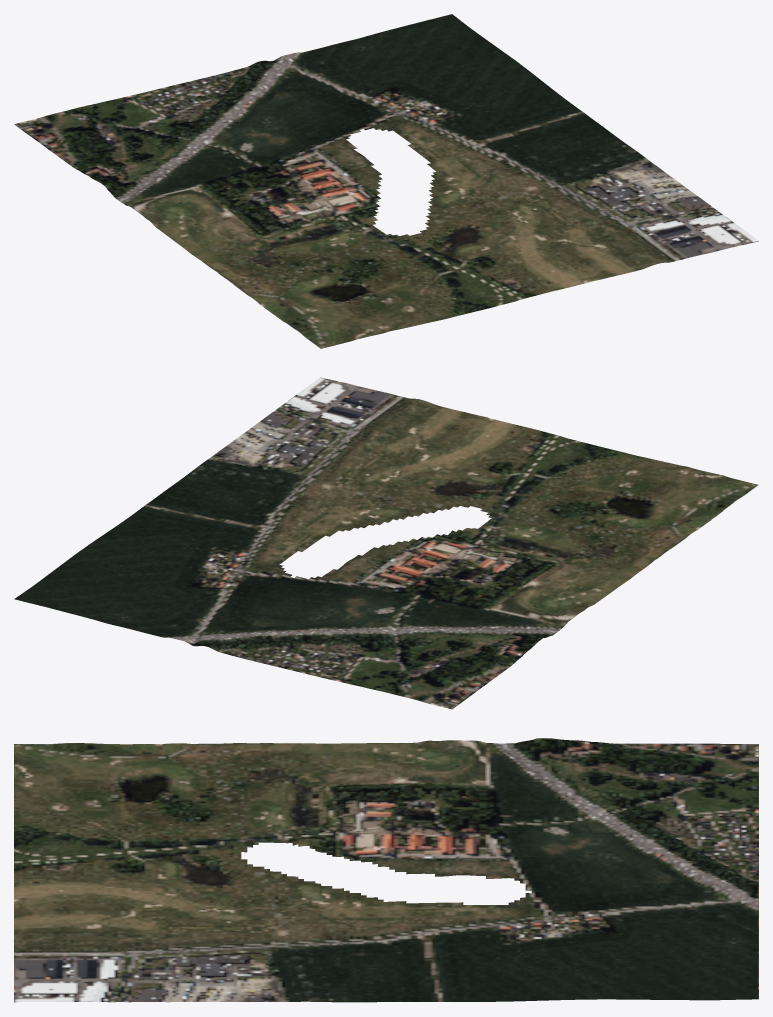
Rendered from black_4_wide.glb.
The picture shows the model from 3 angles, top to bottom: view 1: azimuth 30°, elevation 25°; view 2: azimuth 150°, elevation 25°; view 3: azimuth 270°, elevation 25°; orthographic projection. The views are drawn at different scales.
Visible parts, largest first — view 1: wide; view 2: wide; view 3: wide.
Part boxes in pixels (left/top/right/bottom): wide: left=14, top=14, right=758, bottom=348; wide: left=14, top=377, right=758, bottom=709; wide: left=14, top=738, right=758, bottom=1002.
Size of the model in its own units: 864 by 11.71 by 1048.
Materials: 1 (1 with a texture image).
